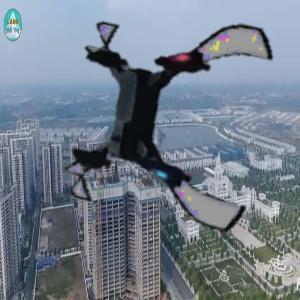drone: (66, 9, 280, 223)
